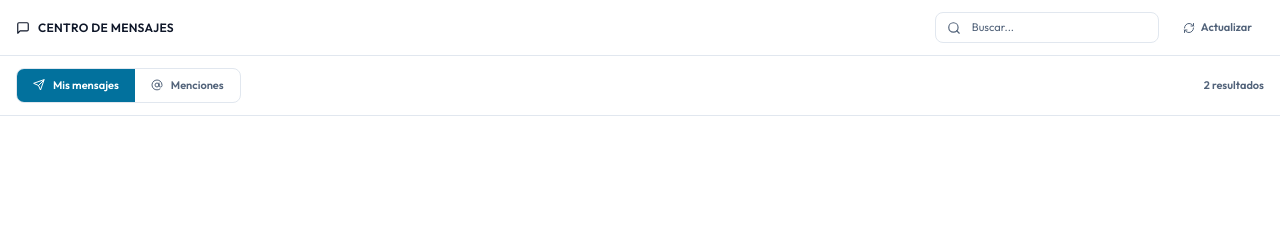
ChatAdminPage › shows the mentions empty state when no mentions exist
Click the button "Menciones" at [187, 85], box [135,69,240,102]
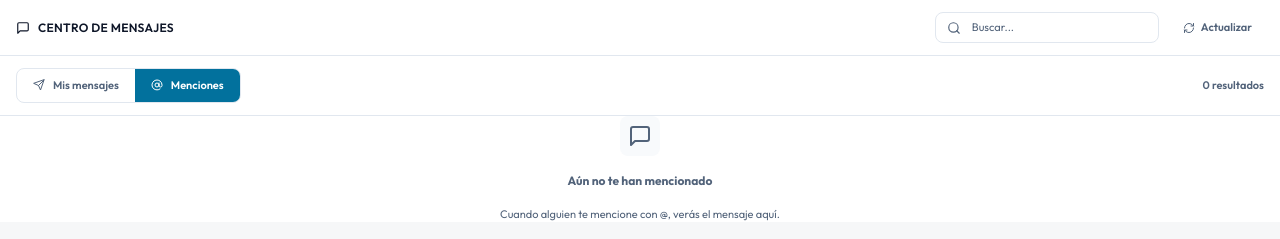
Result: the text "Aún no te han mencionado" is shown at [568,172,712,190]
Result: the text "Cuando alguien te mencione con @, verás el mensaje aquí." is shown at [500,206,780,222]
